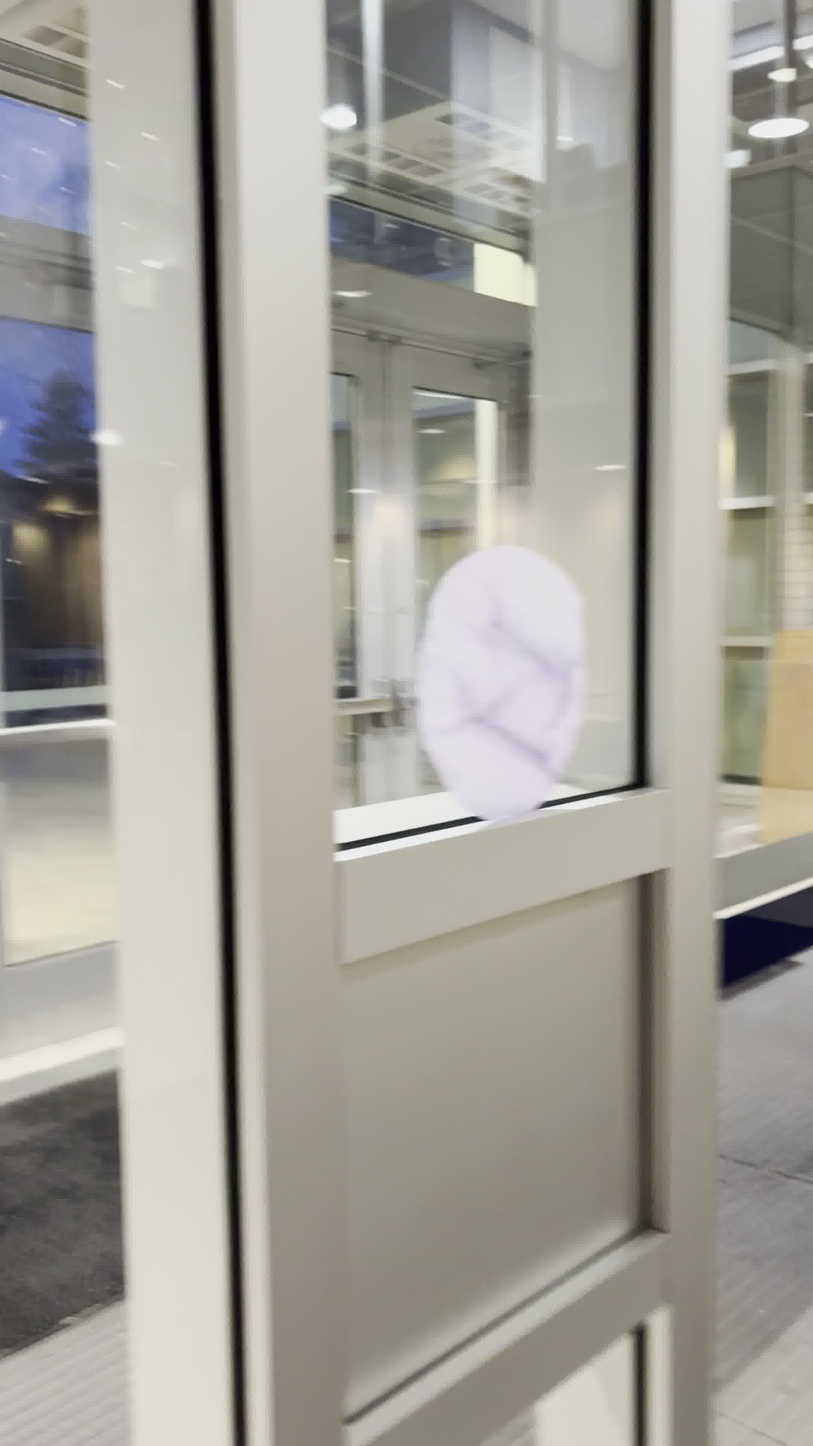Target: (407, 537, 598, 837)
